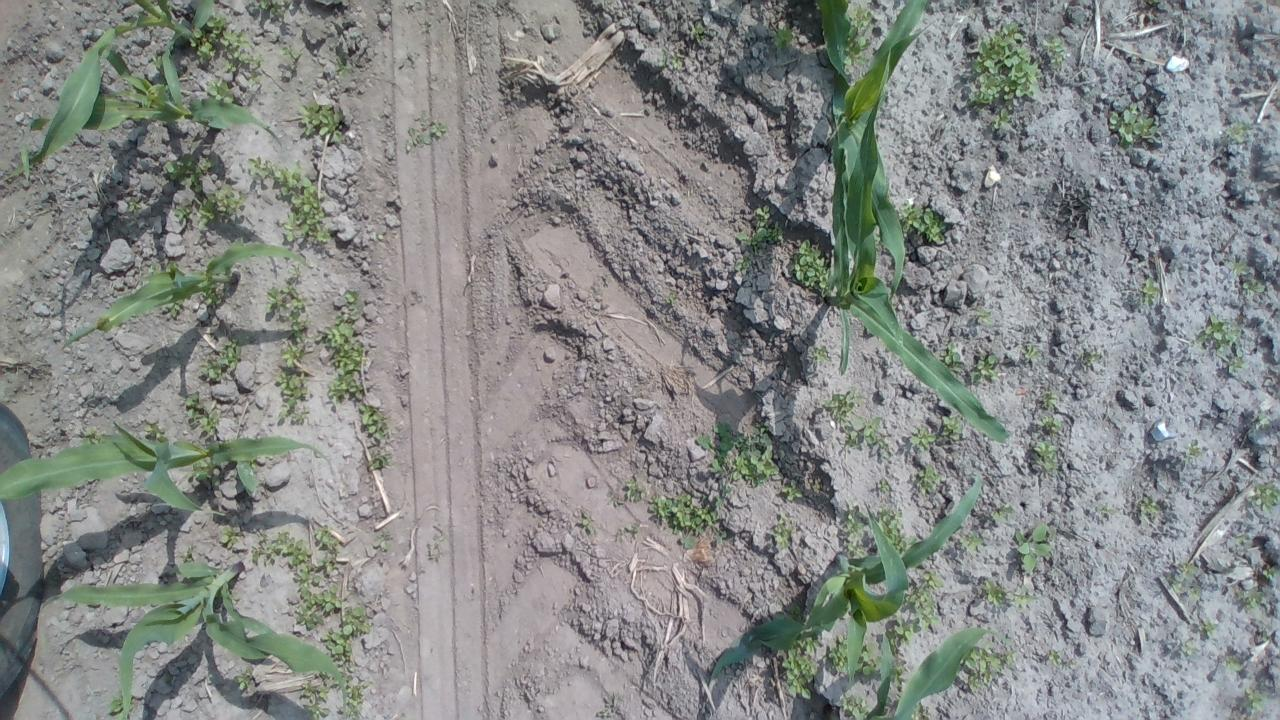Maize: (820, 26, 1015, 444), (709, 473, 980, 672), (57, 558, 350, 720), (7, 0, 215, 177), (17, 47, 283, 178), (830, 0, 936, 303), (0, 420, 331, 514), (59, 240, 310, 352), (870, 627, 1014, 720), (818, 0, 858, 89)
Weeds: (251, 529, 341, 631), (247, 156, 332, 243), (964, 20, 1041, 114), (263, 285, 312, 423), (820, 384, 895, 461), (696, 422, 780, 487), (647, 488, 736, 548), (316, 310, 366, 404), (190, 12, 264, 73), (320, 606, 370, 673), (777, 636, 824, 700), (791, 240, 835, 298), (1107, 101, 1163, 146), (905, 566, 944, 630), (196, 184, 249, 231), (959, 644, 1015, 688), (897, 199, 949, 246), (298, 98, 346, 146), (830, 634, 880, 680), (877, 504, 917, 560), (735, 205, 785, 248), (844, 0, 876, 67), (1016, 522, 1054, 574), (1190, 314, 1240, 352), (178, 390, 221, 434), (980, 578, 1038, 610), (160, 154, 214, 188), (198, 338, 240, 380), (887, 612, 922, 657), (405, 114, 449, 148), (844, 507, 870, 560), (359, 402, 392, 442), (611, 476, 647, 506), (769, 510, 794, 552), (1033, 440, 1060, 478), (1248, 480, 1280, 512), (344, 680, 369, 720), (914, 463, 944, 496), (1040, 34, 1068, 68), (190, 459, 222, 488), (767, 22, 801, 49), (969, 354, 1000, 382), (840, 693, 872, 720), (940, 340, 964, 374), (656, 46, 686, 72), (908, 424, 936, 450), (204, 79, 234, 102), (940, 414, 964, 441), (1138, 278, 1161, 304), (218, 524, 242, 548), (1038, 416, 1064, 438), (234, 666, 256, 690), (303, 682, 329, 702), (1227, 352, 1250, 374), (110, 694, 135, 714), (78, 426, 105, 444), (1242, 279, 1265, 300), (372, 528, 392, 552), (1244, 590, 1264, 614), (1223, 123, 1251, 140), (257, 0, 285, 17), (1246, 687, 1264, 713), (808, 346, 834, 364), (781, 480, 803, 501), (960, 532, 984, 551), (990, 504, 1015, 522), (368, 453, 394, 470), (343, 288, 363, 310), (144, 422, 167, 441), (992, 109, 1012, 130), (975, 306, 994, 328), (334, 59, 356, 78), (280, 46, 306, 62), (1139, 496, 1162, 514), (910, 701, 930, 720), (734, 255, 752, 276), (304, 705, 328, 720), (892, 663, 906, 688), (688, 22, 704, 43), (320, 670, 338, 688), (1232, 258, 1248, 278), (1225, 655, 1243, 672), (1181, 560, 1198, 578), (1168, 577, 1186, 594), (1046, 648, 1063, 666), (1022, 344, 1041, 360), (168, 298, 184, 317), (202, 288, 221, 304), (172, 205, 190, 221), (287, 264, 304, 280), (624, 523, 640, 540), (165, 260, 182, 276), (1202, 621, 1218, 638), (874, 479, 891, 495), (152, 52, 164, 74), (1041, 392, 1057, 408), (1086, 350, 1102, 366), (1185, 444, 1203, 458), (1262, 566, 1280, 579), (127, 198, 142, 213), (1180, 640, 1196, 654), (247, 73, 259, 88), (580, 515, 592, 529), (185, 544, 194, 562), (147, 264, 163, 274), (664, 295, 679, 305), (1099, 505, 1114, 515), (1190, 586, 1201, 599), (814, 0, 824, 12), (1234, 536, 1244, 545), (1262, 632, 1268, 642)
